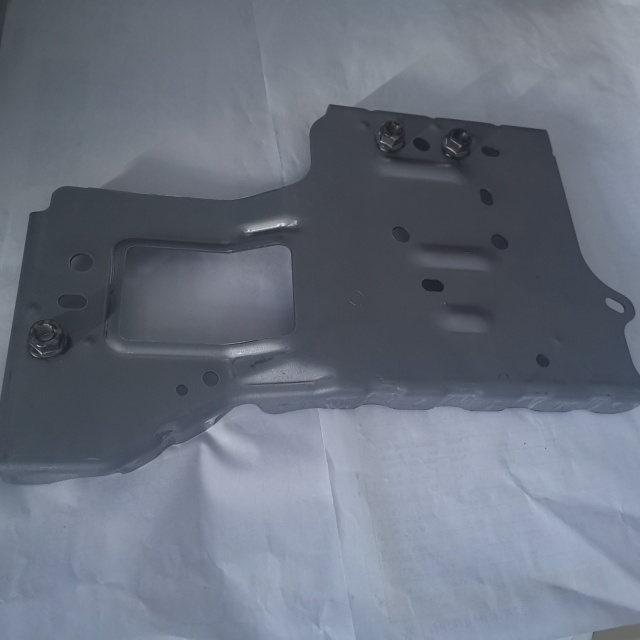dog: (25, 317, 68, 360), (440, 127, 475, 163), (374, 119, 408, 156)
